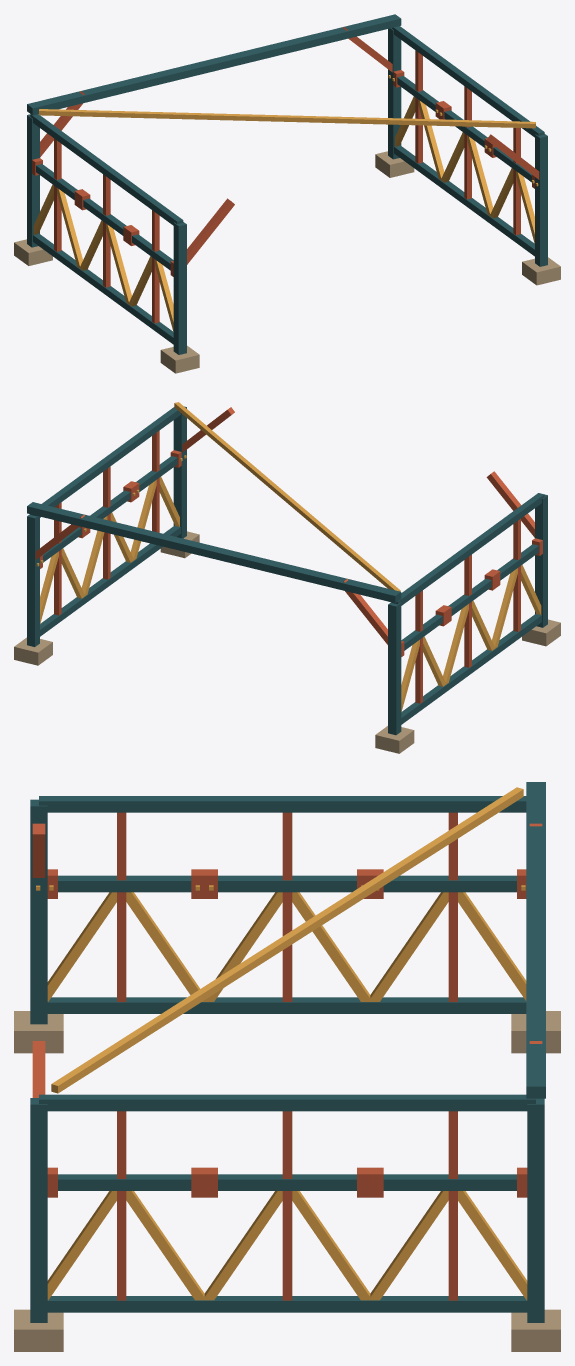
The model's file is bridge.glb.
3 renders of one model, top to bottom at view 1: azimuth 30°, elevation 25°; view 2: azimuth 150°, elevation 25°; view 3: azimuth 270°, elevation 25°, orthographic. The views are drawn at different scales.
Parts seen in each view (by area): view 1: LOD0; view 2: LOD0; view 3: LOD0.
Boxes of the visible parts, x1,y1,x2,y2 form: LOD0: (14, 14, 560, 373); LOD0: (14, 402, 560, 753); LOD0: (14, 782, 560, 1351).
Size of what is drawn, in the model's own units: 19.1 by 7.27 by 13.86.
